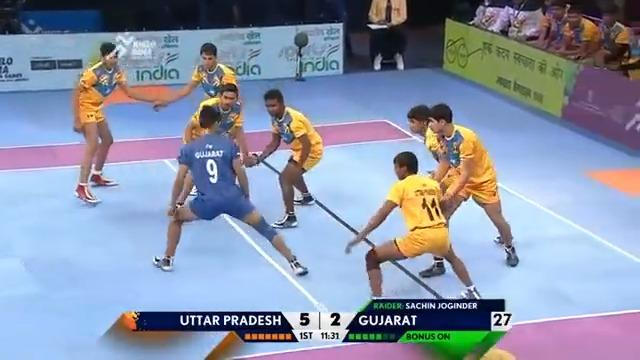Player: (344, 150, 481, 300), (407, 102, 519, 277), (71, 41, 164, 205), (250, 87, 323, 228), (176, 82, 257, 205), (152, 41, 240, 112)
Raider: (152, 105, 309, 277)
referee: (365, 0, 408, 70)
